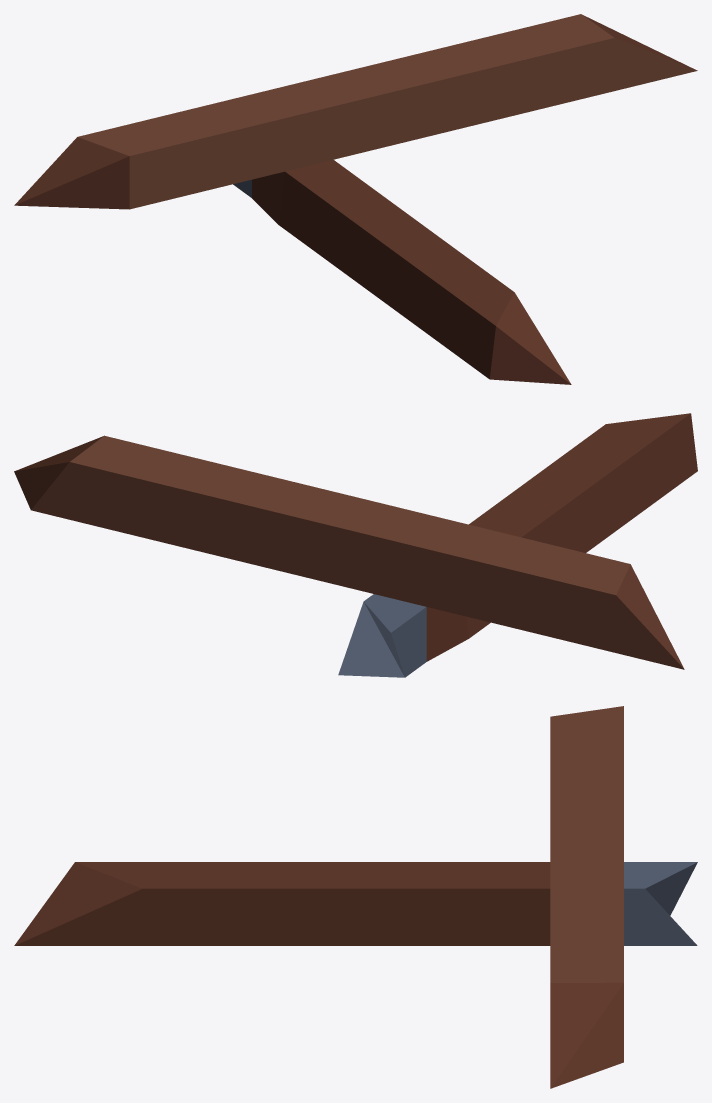
File: Wreckage_2.fbx
3 renders of one model, top to bottom at view 1: azimuth 30°, elevation 25°; view 2: azimuth 150°, elevation 25°; view 3: azimuth 270°, elevation 25°, orthographic. The views are drawn at different scales.
Visible parts, largest first — view 1: Wreckage_2; view 2: Wreckage_2; view 3: Wreckage_2.
Part boxes in pixels (x1=…): Wreckage_2: x1=14, y1=14, x2=697, y2=384; Wreckage_2: x1=14, y1=413, x2=697, y2=677; Wreckage_2: x1=14, y1=706, x2=697, y2=1088.
Bounding box in the file's own units: 34.57 × 5.34 × 27.93.
